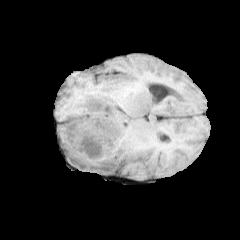glioma: (59, 82, 149, 173)
